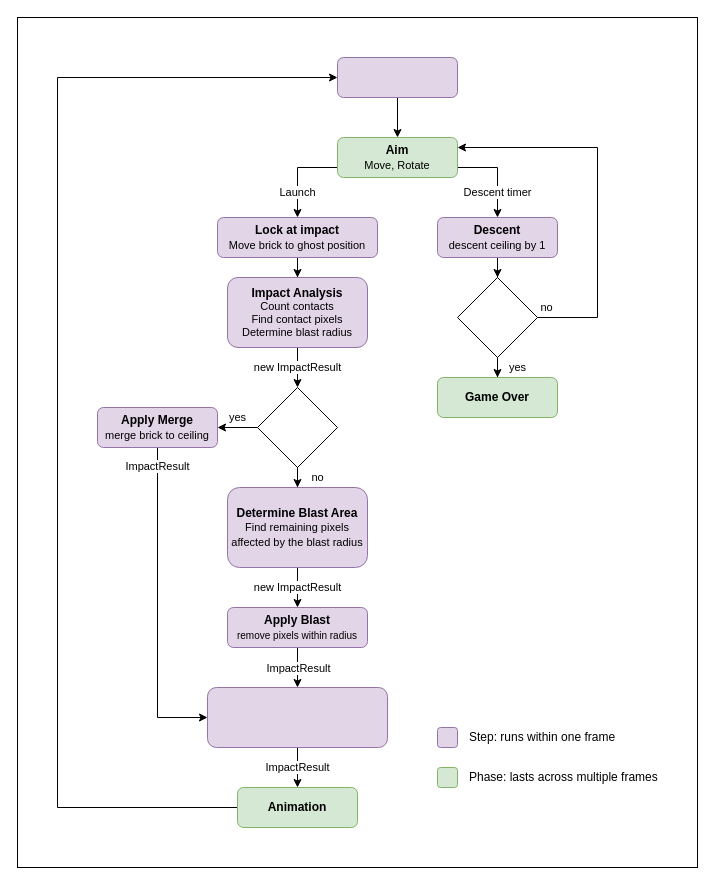
Image size: 715x885. Some labels were removed from this diagram. Each missing label, with the centre of its shape:
"Add score 1 score point per removed pixel points are doubled if radius = 3" goes at [297,717].
"contacts < 3" goes at [297,427].
"Pixel in bottom row?" goes at [497,317].
"Spawn Brick" goes at [397,77].
